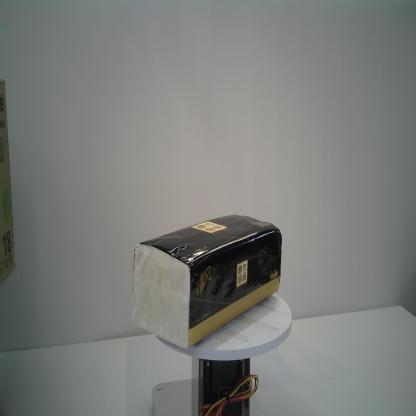Tissue: (130, 214, 283, 350)
